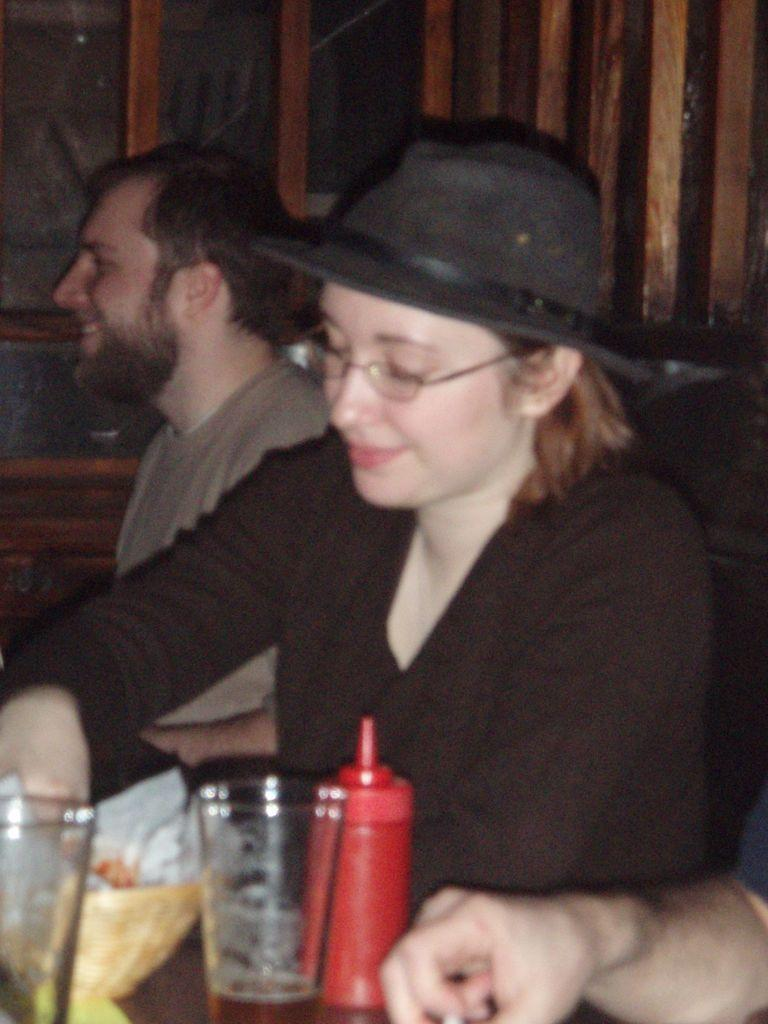Hat: (252, 128, 654, 387)
